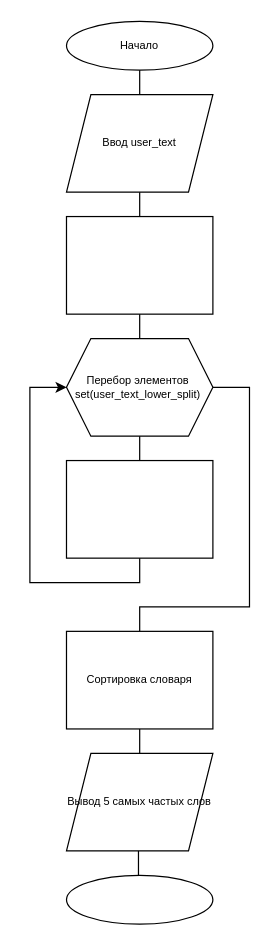
This 272x946 diagram has some shape labels left out. Each missing label, with the centre of its shape:
user_text_lower_split = user_text.lower().split() frequency = dict(): point 139,264
Конец: point 139,899
Подсчет сколько раз встречается каждое слово в тексте: point 139,508
